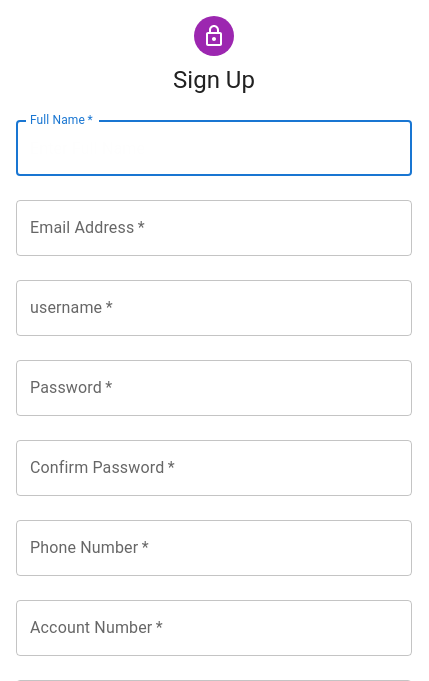
Test case: SignUpPage component › Not displays error for invalid phone number
Type "123456789" into the field with placeholder "Phone Number" at (214, 548), box [16,520,412,576]
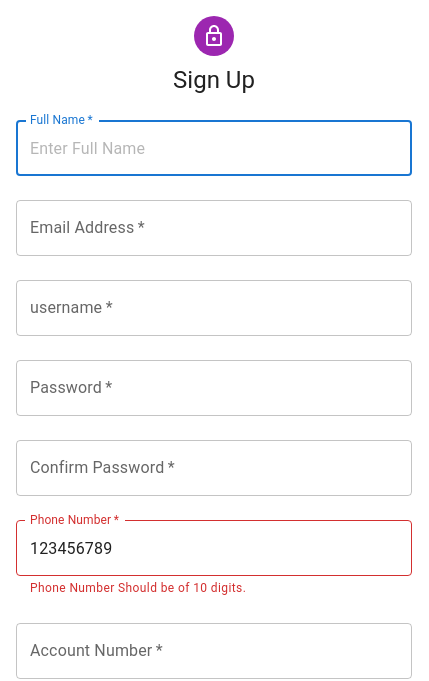
Replace the text in the field with placeholder "Phone Number" with "1234567890" at (214, 548), box [16,520,412,576]
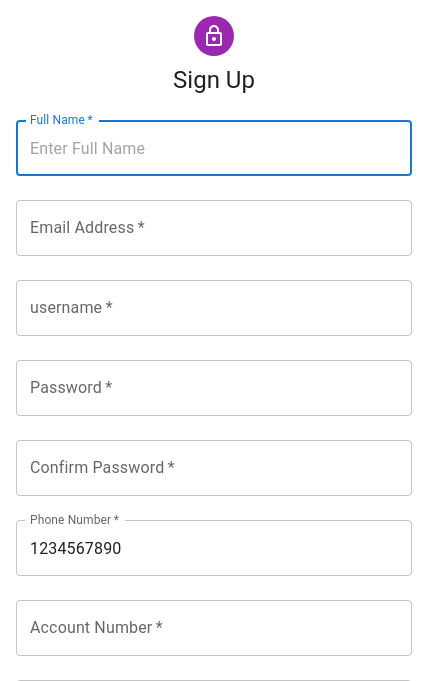
Expected: the text "Phone Number Should be of 10 digits" is gone
